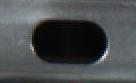holes: (30, 18, 110, 65)
